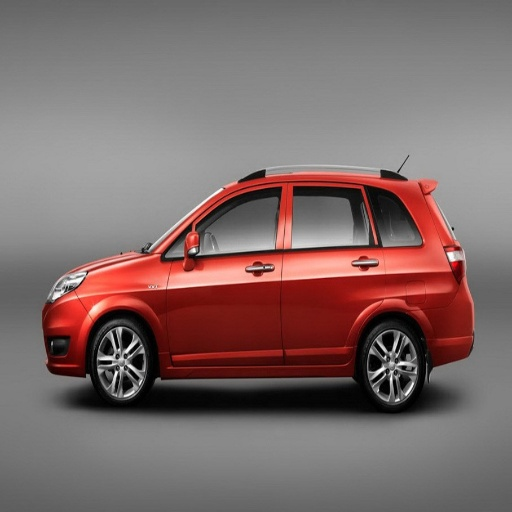back_left_door: (282, 179, 386, 363)
front_left_door: (167, 181, 288, 366)
